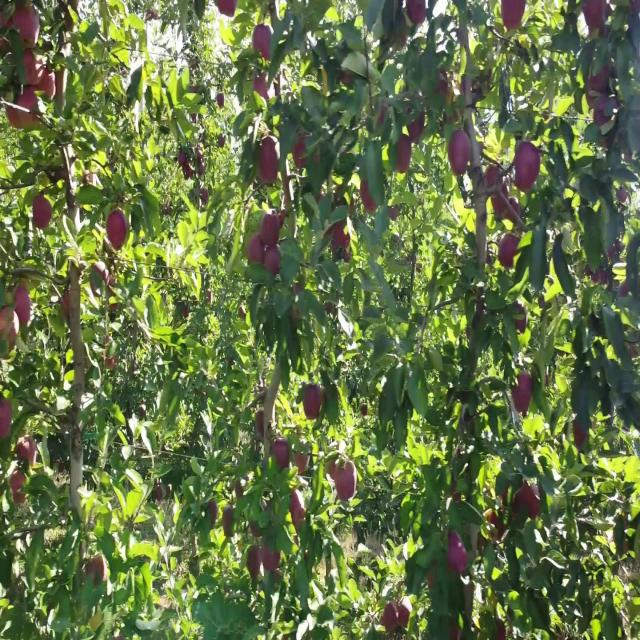apple: (516, 142, 540, 192), (596, 99, 619, 148), (12, 7, 40, 46), (448, 135, 473, 178), (584, 0, 613, 37), (488, 163, 507, 219), (248, 547, 280, 580), (332, 462, 356, 505), (588, 63, 614, 98), (516, 483, 541, 519), (500, 0, 527, 32), (448, 533, 468, 576), (260, 142, 280, 185), (512, 376, 533, 416), (304, 383, 326, 421), (108, 213, 128, 251), (252, 28, 273, 64), (260, 213, 282, 247), (328, 220, 352, 251), (20, 85, 38, 126), (500, 234, 520, 270), (208, 504, 232, 533), (396, 135, 412, 178), (0, 312, 19, 348), (36, 63, 55, 98), (488, 163, 507, 197), (88, 554, 108, 585), (180, 149, 200, 180), (32, 199, 52, 229), (292, 490, 307, 530), (16, 291, 32, 327), (292, 135, 308, 171), (408, 0, 428, 28), (8, 99, 26, 130), (272, 440, 291, 469), (92, 263, 108, 297), (12, 469, 27, 505), (0, 14, 13, 55), (408, 113, 425, 144), (0, 398, 12, 441), (248, 234, 264, 265), (248, 547, 264, 578), (360, 184, 377, 213), (264, 248, 281, 277), (488, 511, 505, 540), (48, 71, 65, 100), (16, 440, 36, 464), (252, 78, 271, 103), (24, 49, 37, 85), (44, 71, 60, 100), (264, 547, 281, 574), (216, 0, 237, 21), (384, 604, 398, 633), (104, 341, 118, 370), (36, 63, 50, 92), (504, 199, 520, 224), (208, 504, 224, 528), (52, 71, 65, 100), (576, 419, 587, 452), (8, 106, 23, 130), (156, 483, 172, 505), (224, 504, 234, 539), (516, 305, 528, 334), (400, 604, 412, 628), (296, 455, 309, 476), (256, 412, 266, 436), (64, 291, 72, 316), (181, 156, 191, 176), (428, 568, 437, 590), (380, 106, 389, 126), (452, 618, 460, 639), (340, 71, 352, 85), (496, 625, 506, 638)
